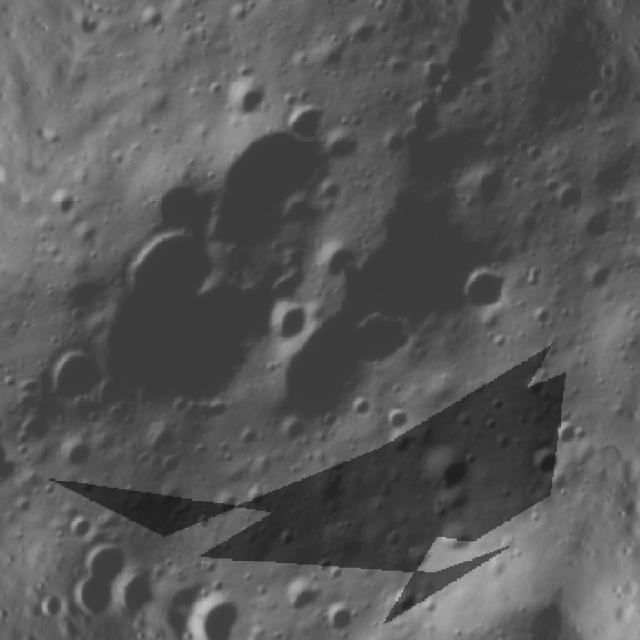crater: (84, 213, 307, 433), (195, 99, 362, 287), (269, 291, 416, 455), (115, 208, 222, 321), (36, 337, 119, 420), (78, 530, 160, 595), (451, 252, 520, 326), (414, 434, 481, 509), (273, 570, 335, 624), (397, 90, 452, 145), (278, 92, 334, 145), (517, 438, 571, 490), (262, 301, 313, 356), (318, 594, 376, 640), (217, 79, 269, 127), (543, 412, 588, 458), (9, 410, 57, 452), (53, 434, 99, 474), (386, 584, 429, 624), (44, 181, 84, 224), (0, 425, 22, 492), (66, 511, 102, 543), (632, 106, 640, 176)
